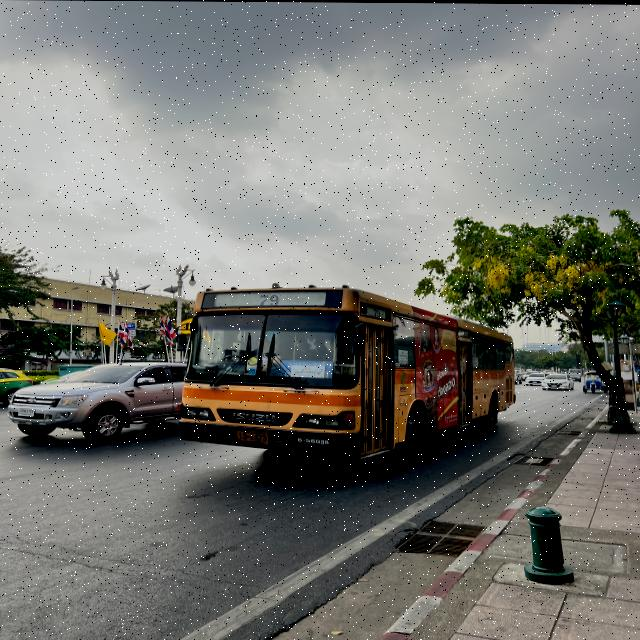BMTA-bus: (179, 286, 517, 468)
Bus-Line-Number: (254, 292, 290, 308), (370, 307, 386, 319)
Destination-Sign-Normal: (282, 358, 332, 380)
